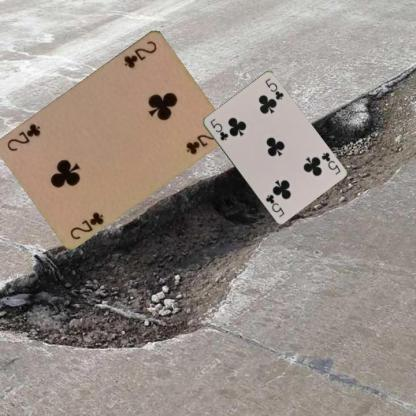2c: (121, 37, 158, 70), (68, 209, 105, 240)
5c: (207, 116, 230, 142), (318, 150, 341, 176)
